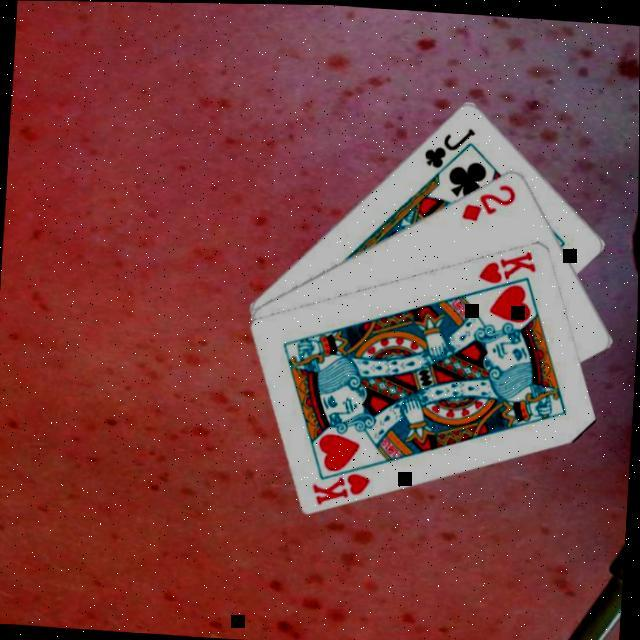2D: (460, 175, 520, 225)
JC: (422, 120, 479, 172)
KH: (476, 242, 540, 286), (310, 465, 375, 508)
